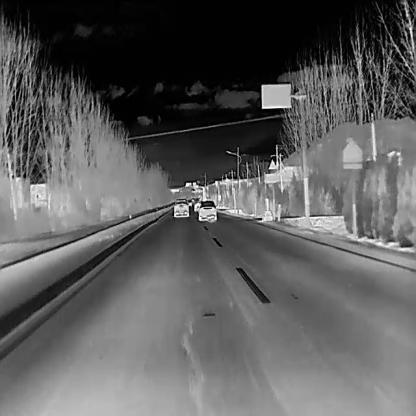car: (198, 200, 217, 222), (173, 197, 189, 217), (193, 200, 202, 211), (186, 198, 192, 206)
